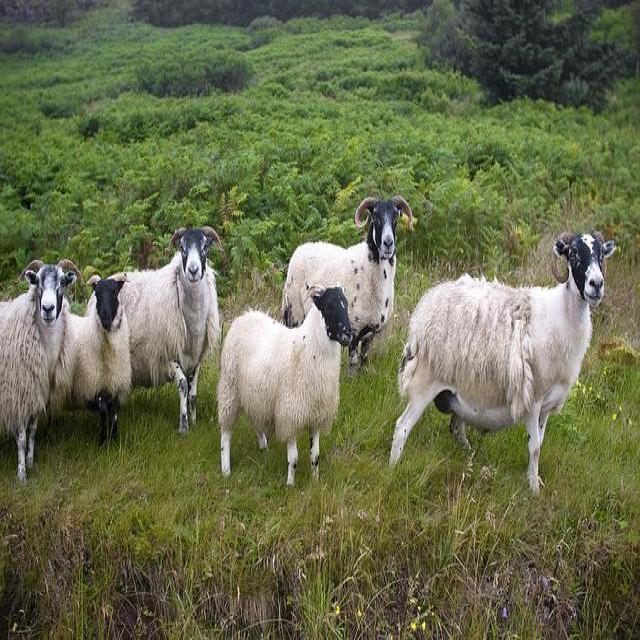Sheep: (381, 233, 629, 502), (218, 280, 353, 488), (281, 190, 416, 367), (116, 225, 223, 433), (0, 260, 80, 479), (46, 273, 132, 451)
